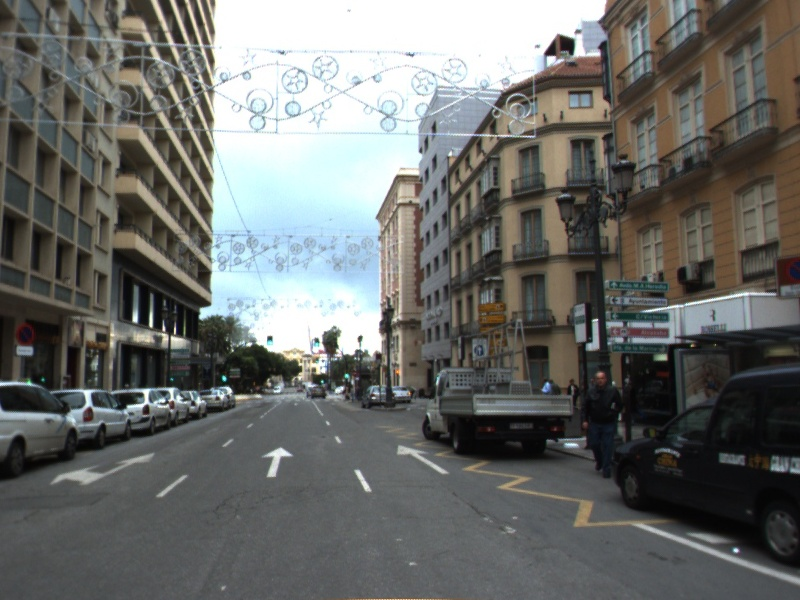STRAIGHT: (394, 441, 453, 476), (258, 445, 296, 479)
STRAIGHT_LEFT: (47, 450, 157, 487)
